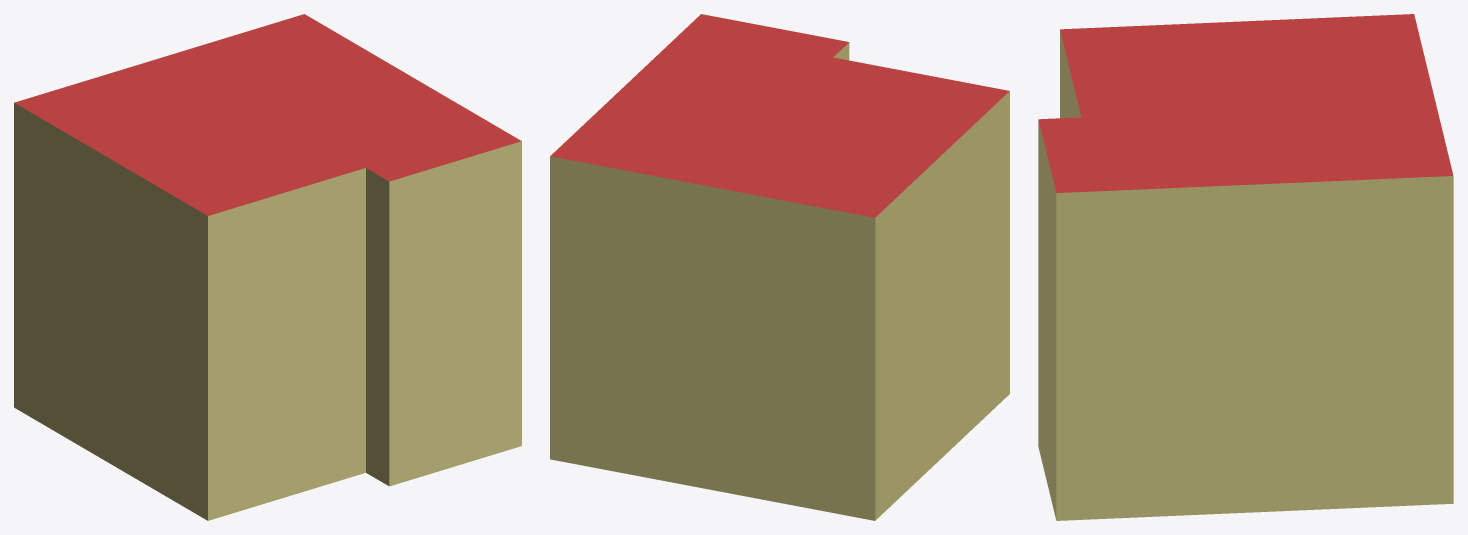
3 renders of one model, left to right at view 1: azimuth 30°, elevation 25°; view 2: azimuth 150°, elevation 25°; view 3: azimuth 270°, elevation 25°, orthographic. The views are drawn at different scales.
Size of the model in its own units: 7.05 by 6.9 by 6.02.
